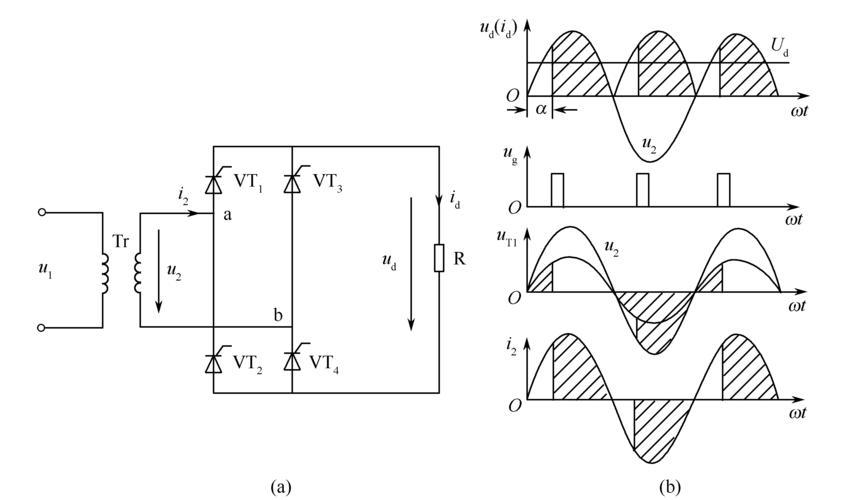diode: (204, 163, 234, 200), (279, 169, 304, 198), (200, 352, 225, 376), (281, 349, 304, 375)
res1: (432, 240, 447, 276)
trans: (94, 241, 149, 305)
